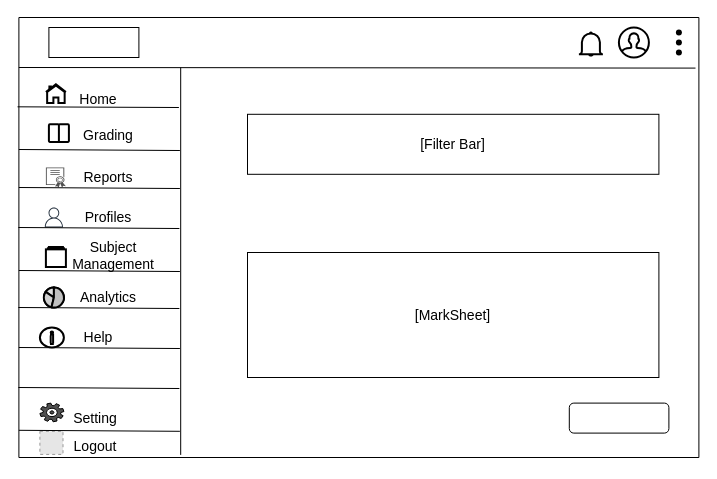
This 717x479 diagram has some shape labels left out. Grey dashed boxes stand in for pictures. Here are the shapes that lost their labels. From the top down, the centre of each, then its label:
(x=93, y=42): WCED LOGO
(x=618, y=417): Save Button
